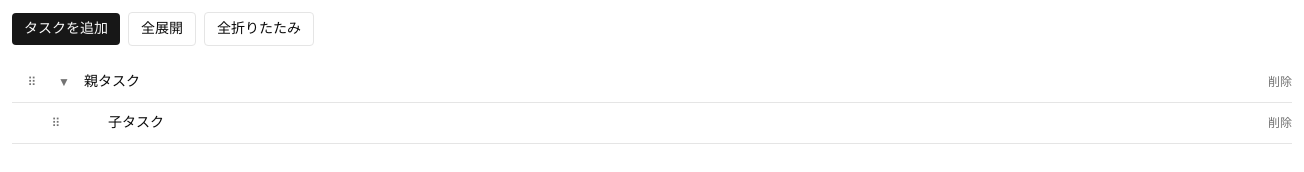
Test: TaskTreeTable › 全展開・全折りたたみ（AC 5） › TaskTreeTable_全展開ボタンをクリックしたとき_折りたたまれた子タスクが表示される
Click the button named "折りたたむ" at [64, 82], box top-left (52, 70), bottom-right (76, 94)
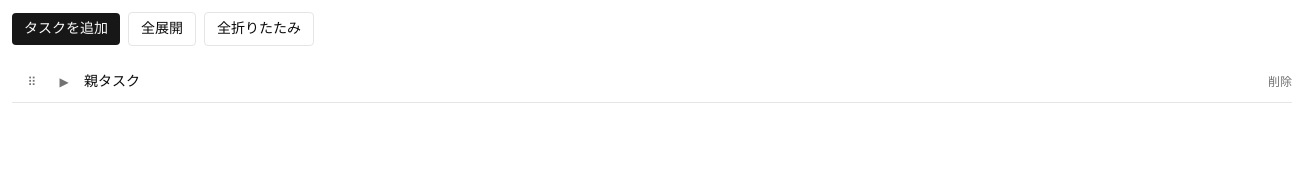
Check: the text "子タスク" is gone
Click the button "全展開" at [162, 29], box top-left (128, 12), bottom-right (196, 46)
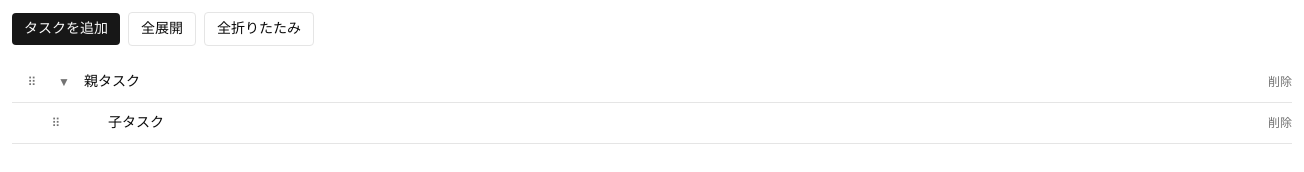
Check: the text "子タスク" is shown, box top-left (108, 115), bottom-right (164, 130)
